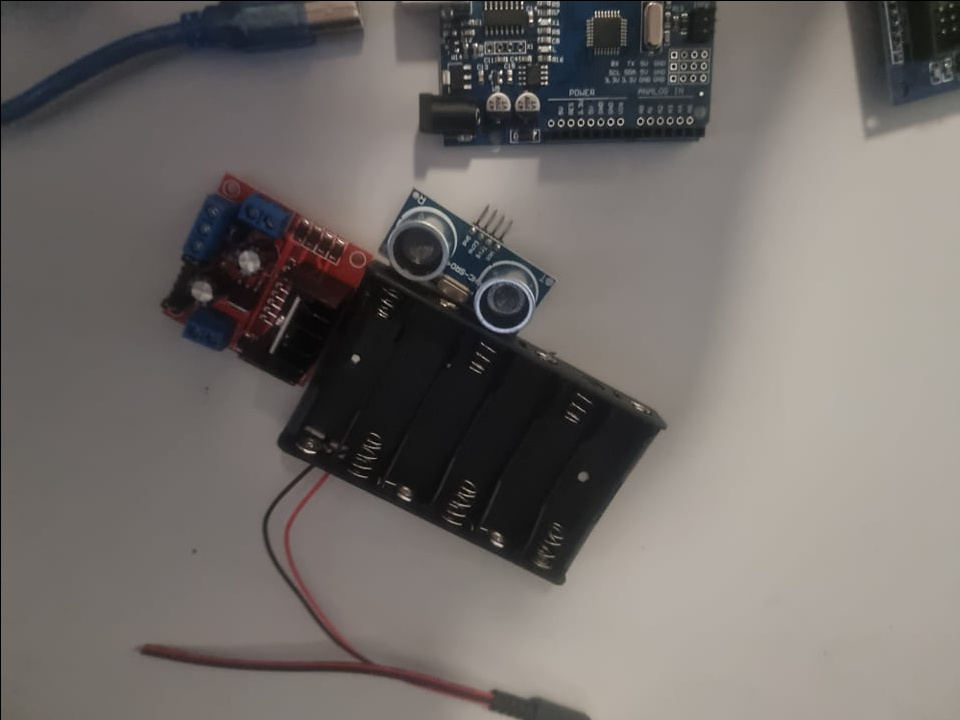BATTERY BOX: (276, 269, 668, 591)
MOTOR: (138, 172, 374, 382)
SENSOR: (384, 184, 561, 335)
UNO R3: (421, 0, 712, 153)
